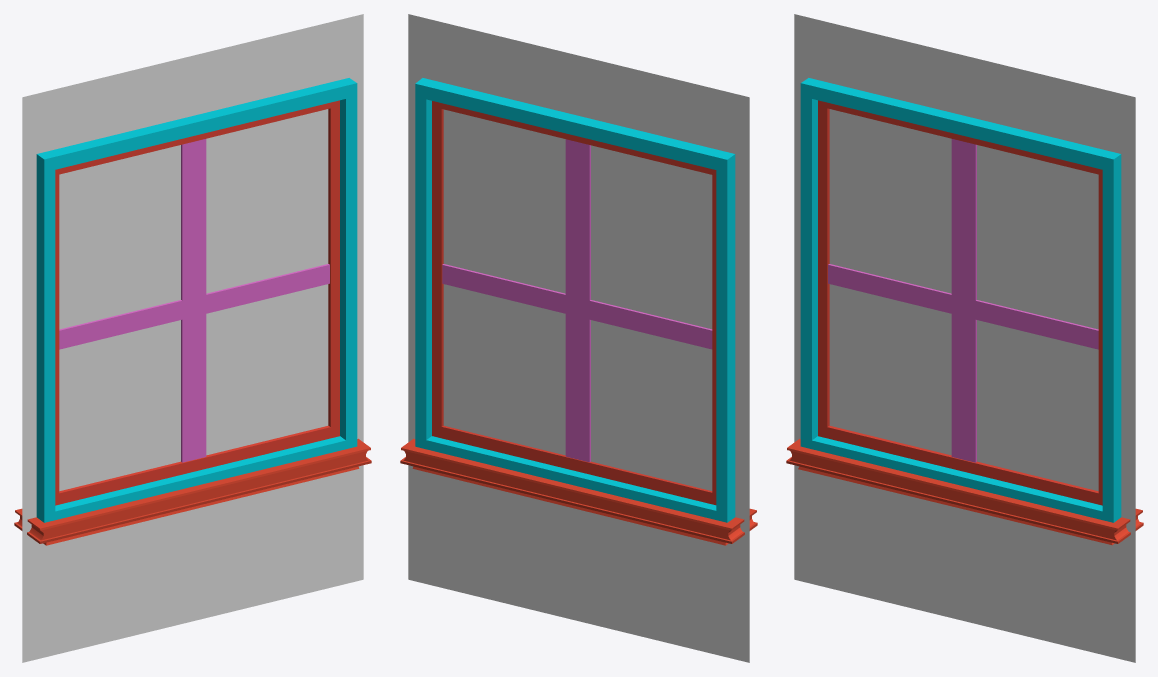
File: VENTANA.fbx
The picture shows the model from 3 angles, left to right: view 1: azimuth 30°, elevation 25°; view 2: azimuth 150°, elevation 25°; view 3: azimuth 330°, elevation 25°; orthographic projection.
Parts seen in each view (by area): view 1: Plane.015, Plane.014, Cube.032, Cube.031, Cube.035, Cube.034, Cube.036; view 2: Plane.015, Plane.014, Cube.032, Cube.031, Cube.035, Cube.034, Cube.036; view 3: Plane.015, Plane.014, Cube.032, Cube.031, Cube.035, Cube.034, Cube.036.
Boxes of the visible parts, bbox=[...] form: Plane.015: bbox=[59, 109, 328, 491]; Plane.014: bbox=[22, 14, 363, 662]; Cube.032: bbox=[36, 78, 357, 522]; Cube.031: bbox=[55, 100, 339, 505]; Cube.035: bbox=[181, 139, 206, 462]; Cube.034: bbox=[14, 438, 371, 545]; Cube.036: bbox=[59, 264, 329, 349]; Plane.015: bbox=[443, 109, 712, 490]; Plane.014: bbox=[408, 14, 749, 662]; Cube.032: bbox=[415, 78, 735, 522]; Cube.031: bbox=[432, 101, 716, 505]; Cube.035: bbox=[565, 139, 590, 462]; Cube.034: bbox=[400, 438, 757, 545]; Cube.036: bbox=[442, 264, 712, 349]; Plane.015: bbox=[829, 109, 1098, 491]; Plane.014: bbox=[794, 14, 1135, 662]; Cube.032: bbox=[800, 78, 1121, 522]; Cube.031: bbox=[818, 100, 1102, 505]; Cube.035: bbox=[951, 139, 976, 462]; Cube.034: bbox=[786, 438, 1143, 545]; Cube.036: bbox=[828, 264, 1098, 349].
Size of the model in its own units: 200 by 317 by 26.3.
